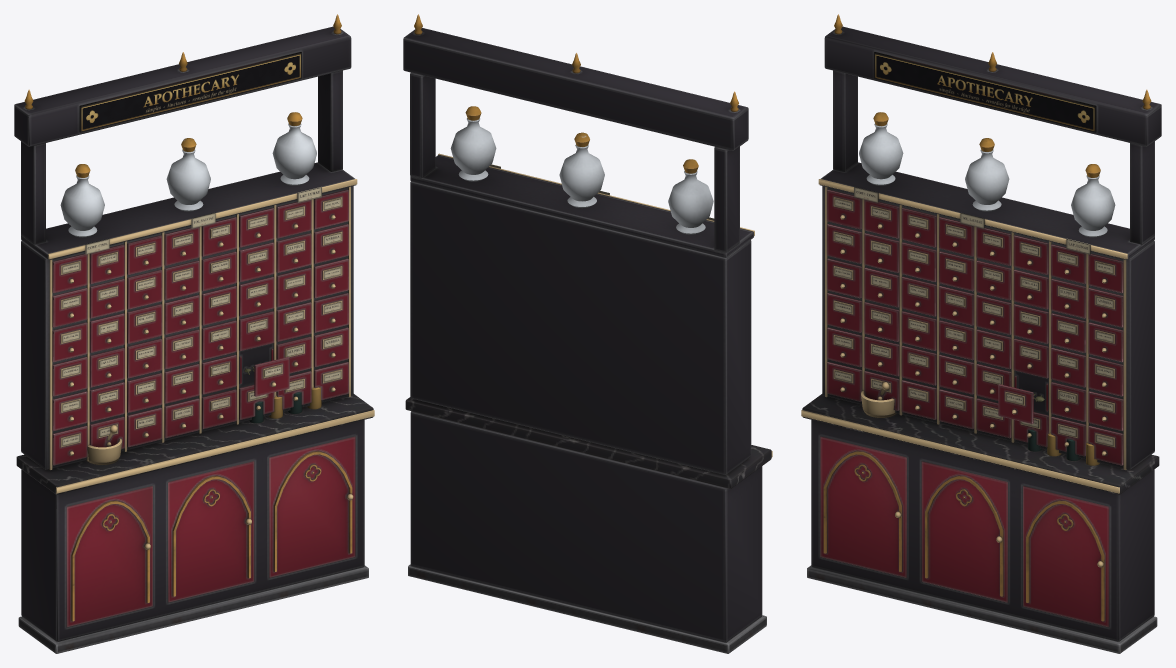
File: ApothecaryDrawers.fbx
3 renders of one model, left to right at view 1: azimuth 30°, elevation 25°; view 2: azimuth 150°, elevation 25°; view 3: azimuth 330°, elevation 25°, orthographic. The views are drawn at different scales.
Visible parts, largest first — view 1: ApothecaryDrawers_Main, ApothecaryDrawers_Glass; view 2: ApothecaryDrawers_Main, ApothecaryDrawers_Glass; view 3: ApothecaryDrawers_Main, ApothecaryDrawers_Glass.
Part boxes in pixels (x1=…): ApothecaryDrawers_Main: x1=14, y1=14, x2=374, y2=653; ApothecaryDrawers_Glass: x1=60, y1=123, x2=316, y2=237; ApothecaryDrawers_Main: x1=403, y1=14, x2=772, y2=653; ApothecaryDrawers_Glass: x1=450, y1=118, x2=713, y2=234; ApothecaryDrawers_Main: x1=801, y1=14, x2=1161, y2=653; ApothecaryDrawers_Glass: x1=859, y1=123, x2=1115, y2=237.
Size of the model in its own units: 670 by 1077 by 159.
